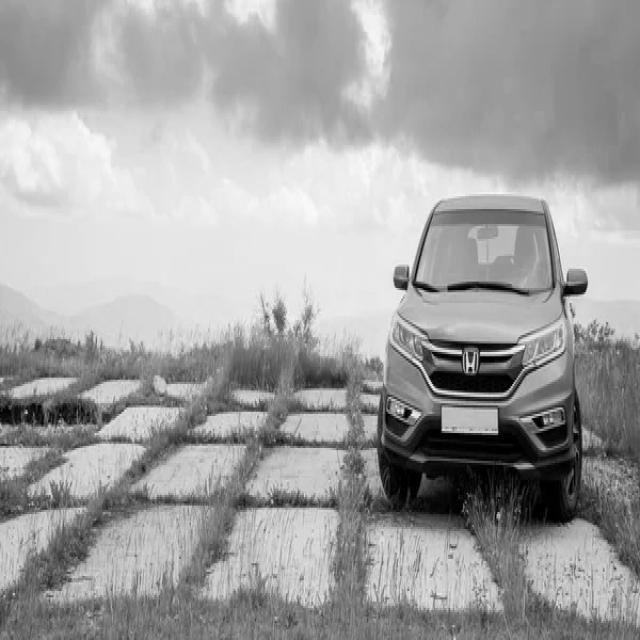Car: (378, 196, 588, 520)
